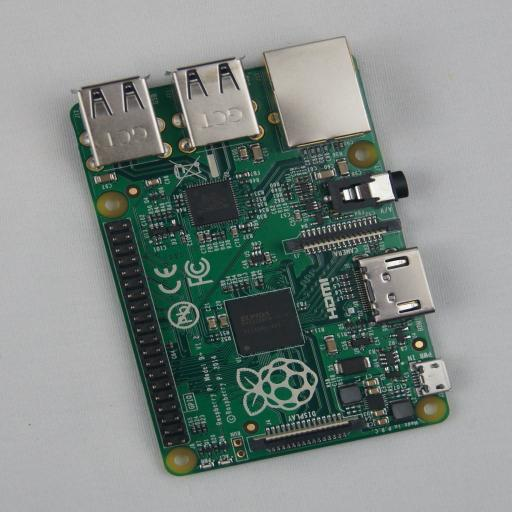Raspberry Pi 1 B-: (70, 53, 449, 476)
